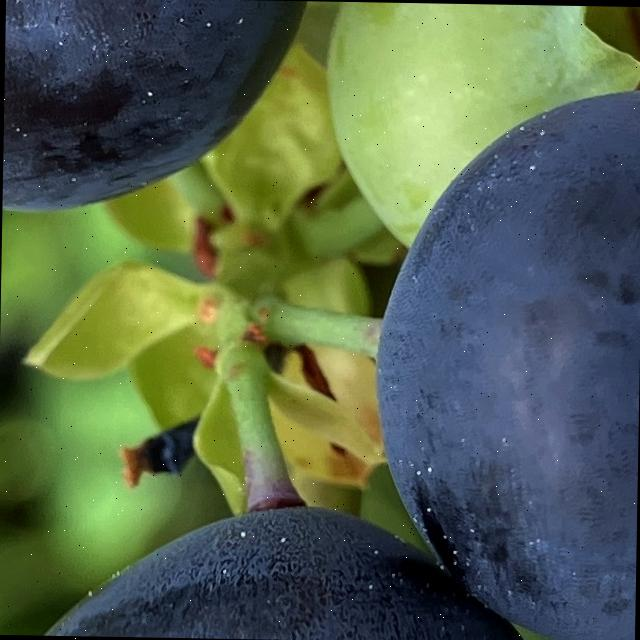Blueberries: (0, 486, 573, 640)
